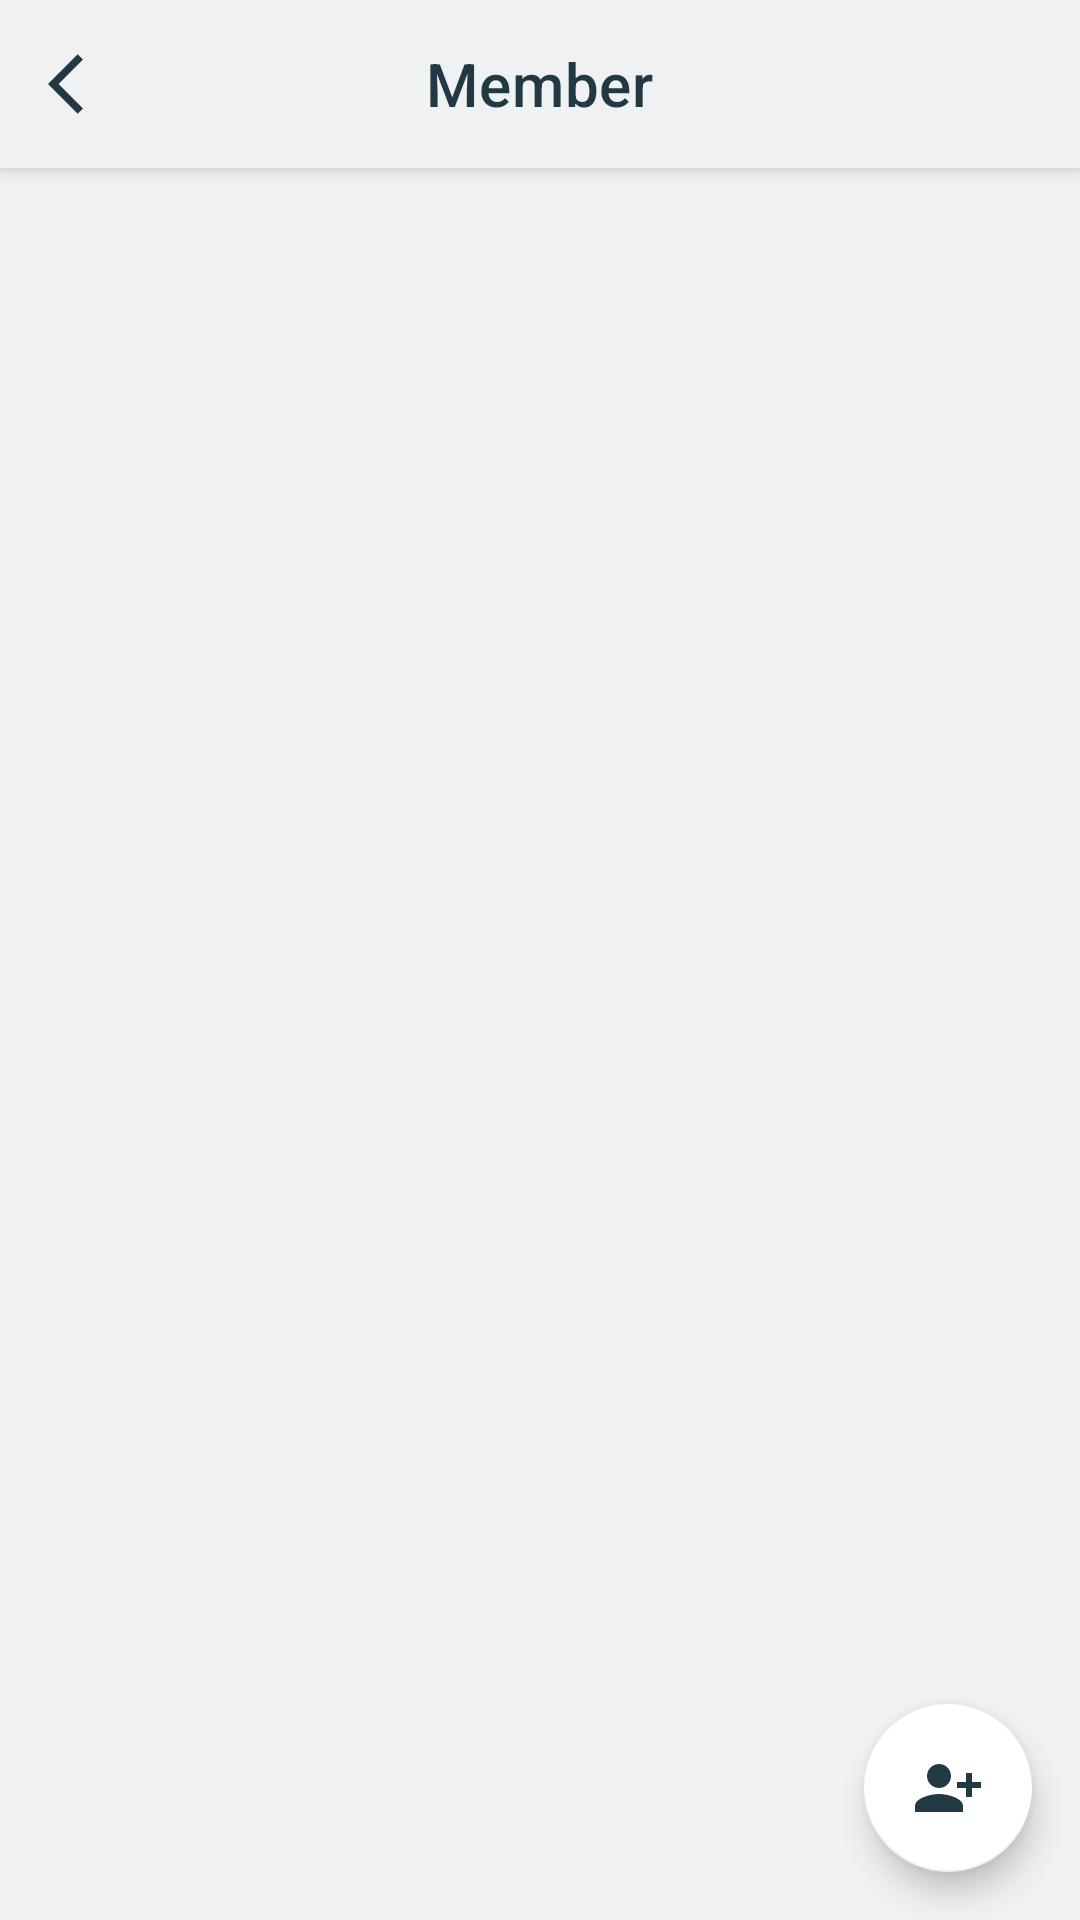

Point at icon controls on the screen. Image size 1080x1920, points as (x=x, y=y).
person add: (x=948, y=1788)
